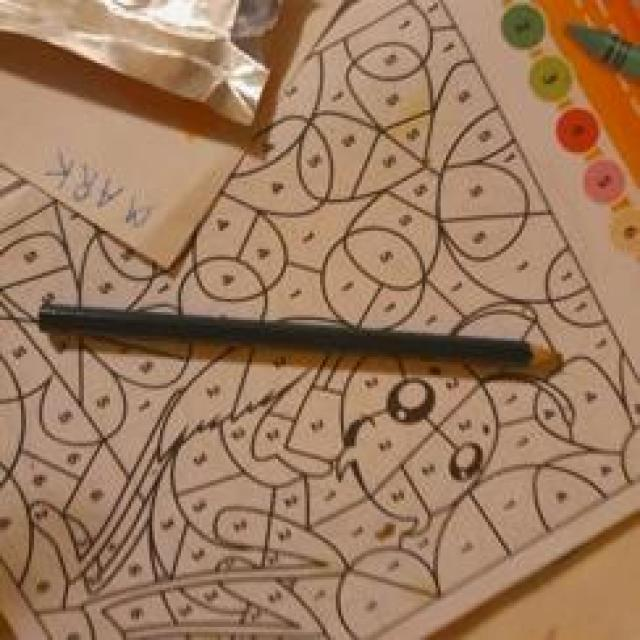pencil: (37, 309, 564, 383)
